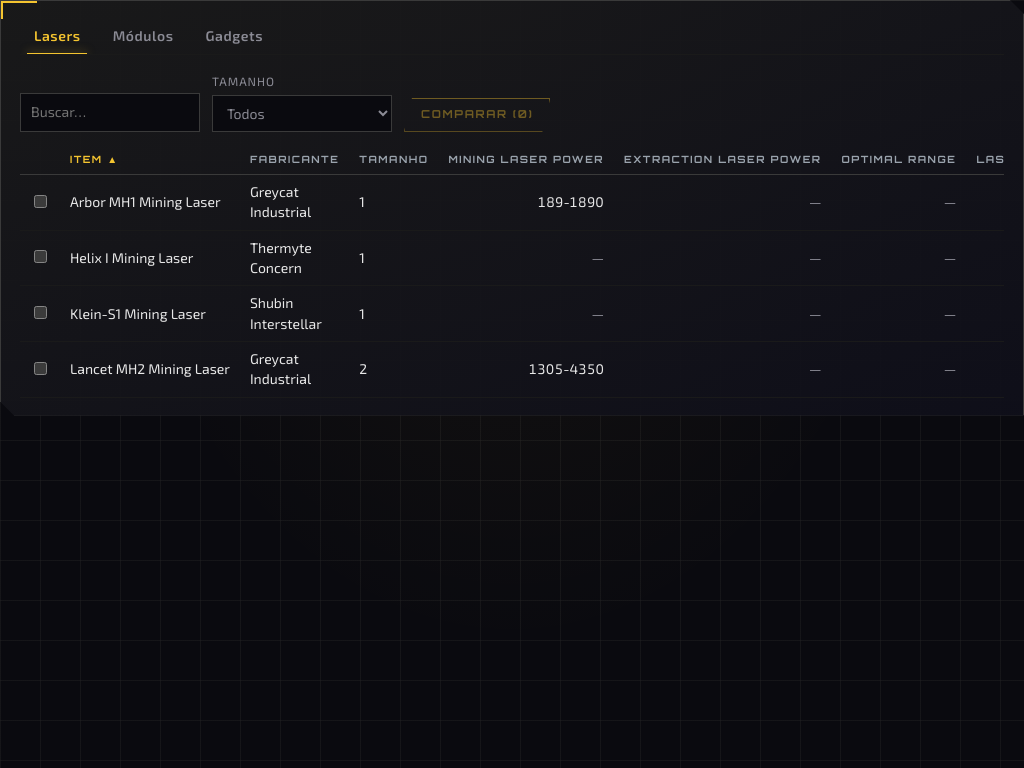
EquipmentView › comparar até 3 lado a lado
Click the checkbox named "Comparar Lancet MH2 Mining Laser".
click(40, 368)  # box [34,362,47,375]
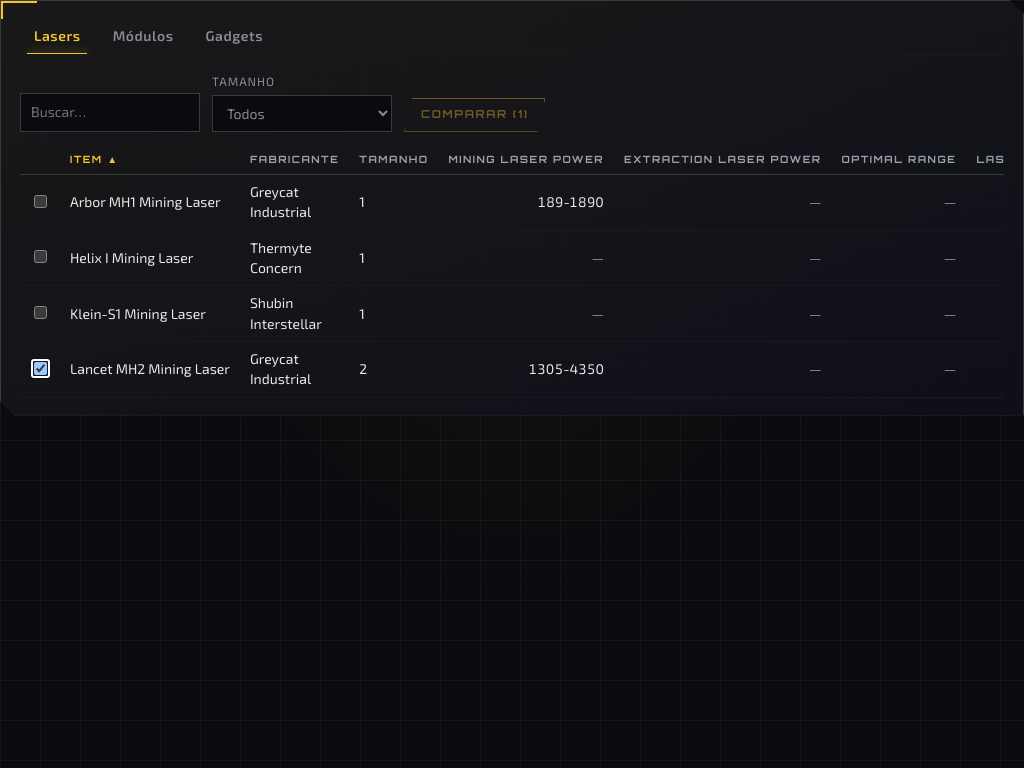
Click the checkbox named "Comparar Arbor MH1 Mining Laser".
click(40, 201)  # box [34,195,47,208]
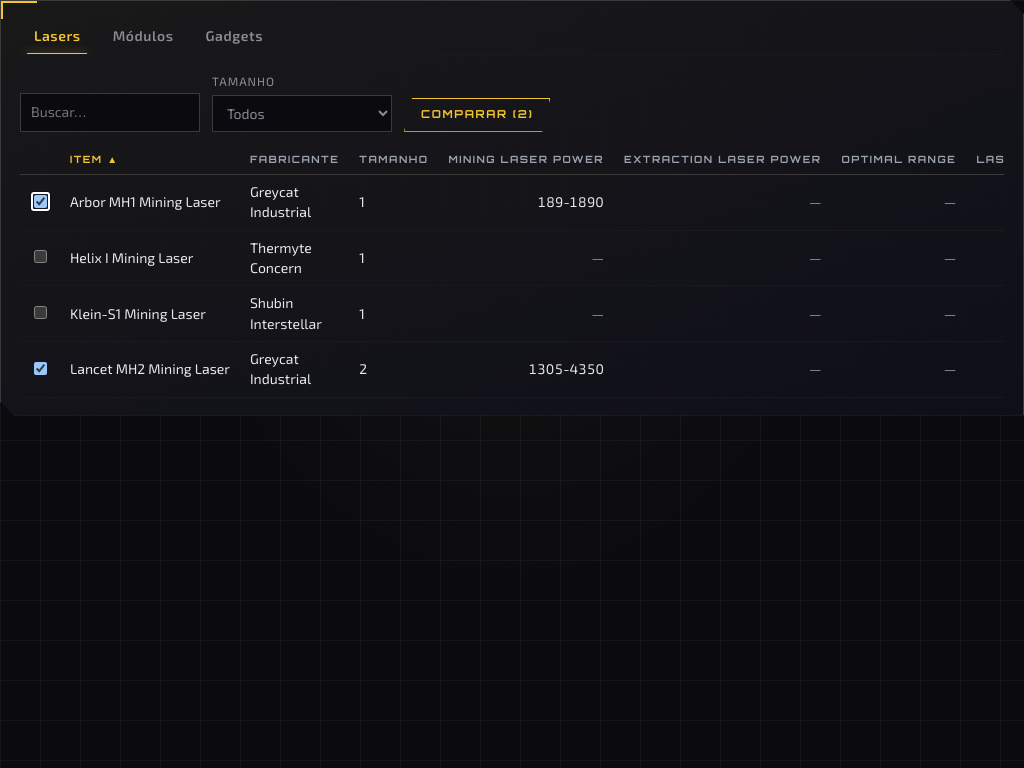
Click the checkbox named "Comparar Helix I Mining Laser".
click(40, 257)  # box [34,250,47,263]
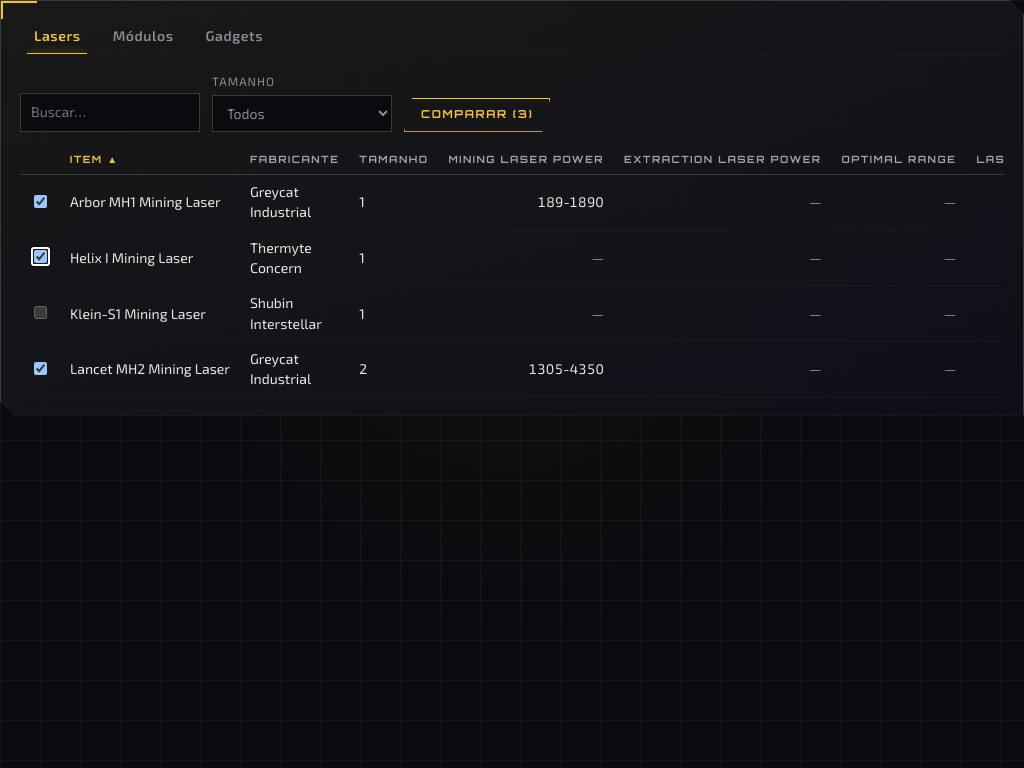
Result: the checkbox named "Comparar Klein-S1" is disabled at [34,306,47,319]
Click the button "Comparar (3)".
click(477, 115)  # box [404,98,550,132]
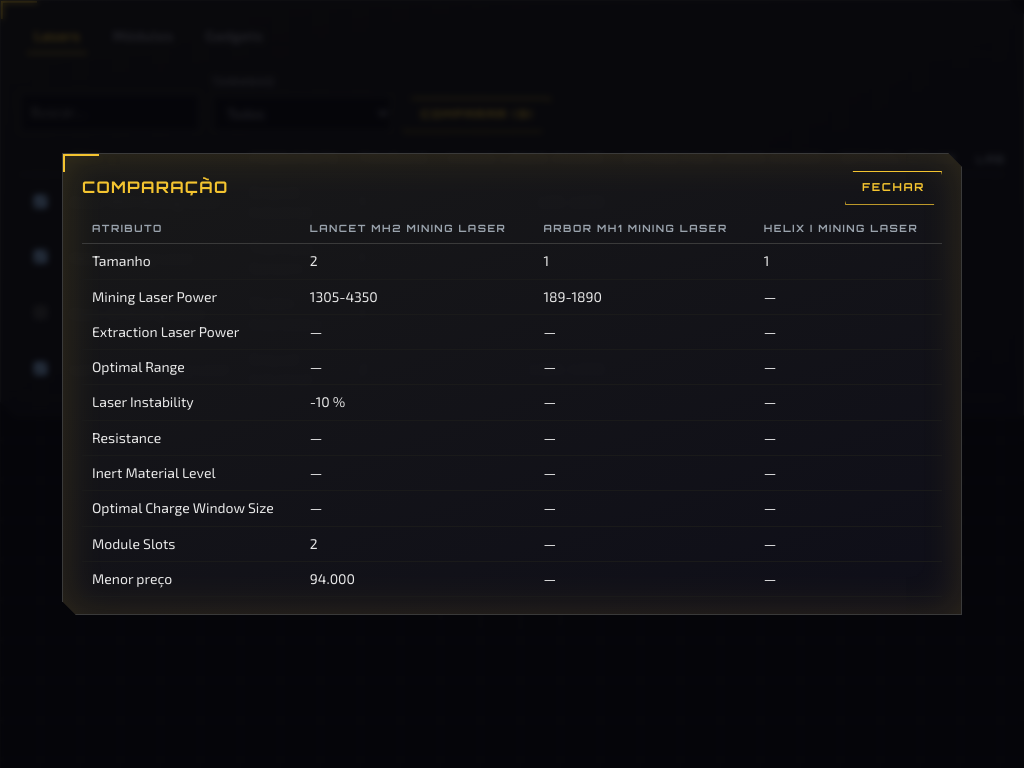
Result: the dialog shows "189-1890" at [544,288,602,304]
